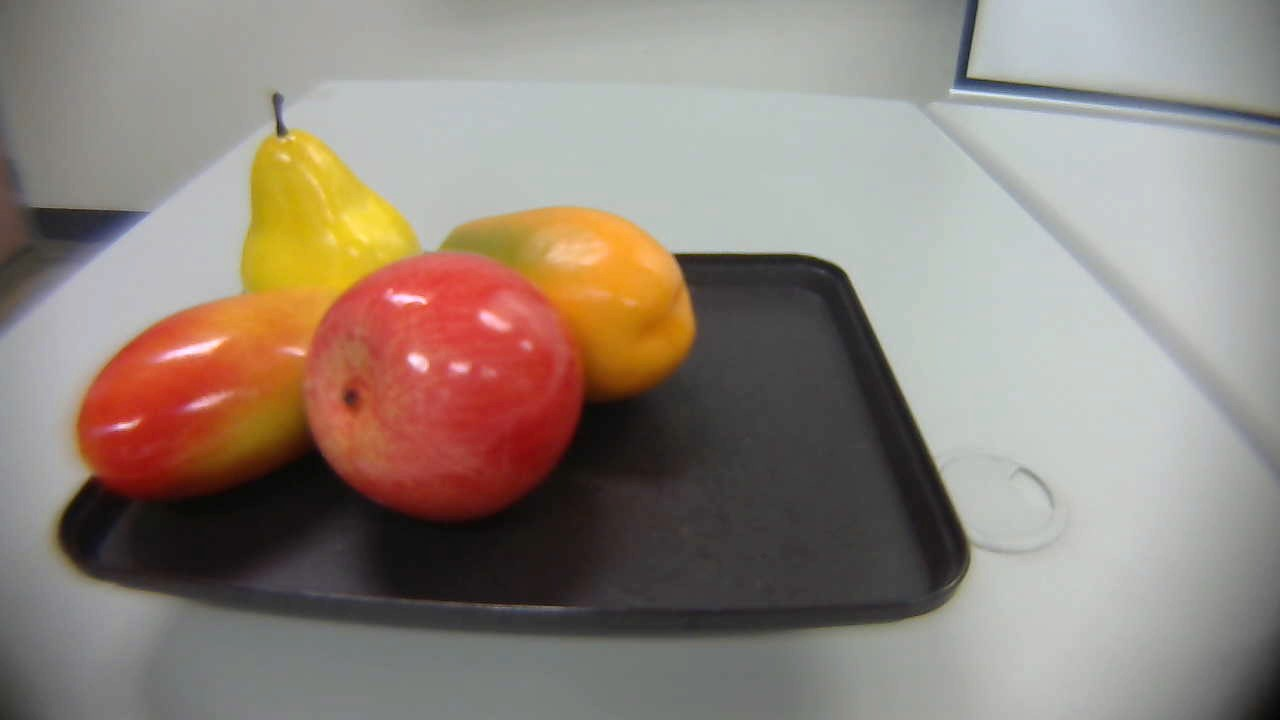papya: (413, 196, 712, 404)
red apple: (305, 246, 592, 531)
red mango: (57, 284, 355, 494)
yellow pear: (220, 89, 437, 329)
